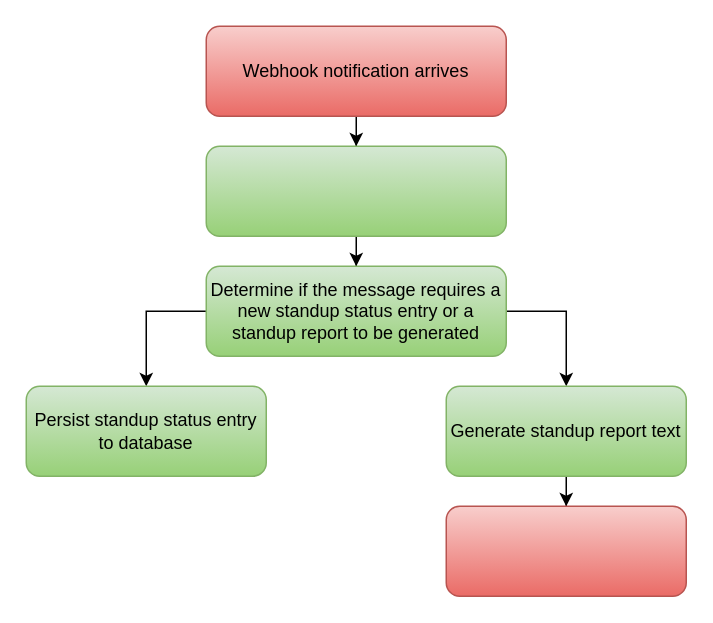
This 713x623 diagram has some shape labels left out. The centre of each missing label's shape, as x and y in pixels:
"Post report content to room using Spark API" goes at (x=565, y=550).
"Retrieve message content, and the person details from the Spark API" goes at (x=355, y=190).
